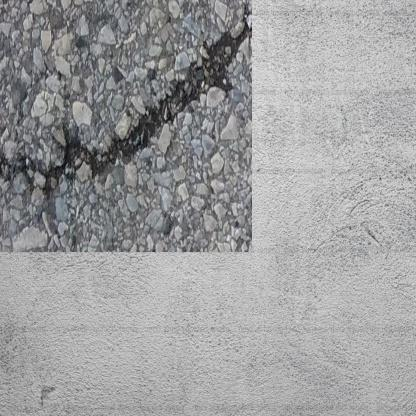Cracks: (0, 7, 233, 179)
